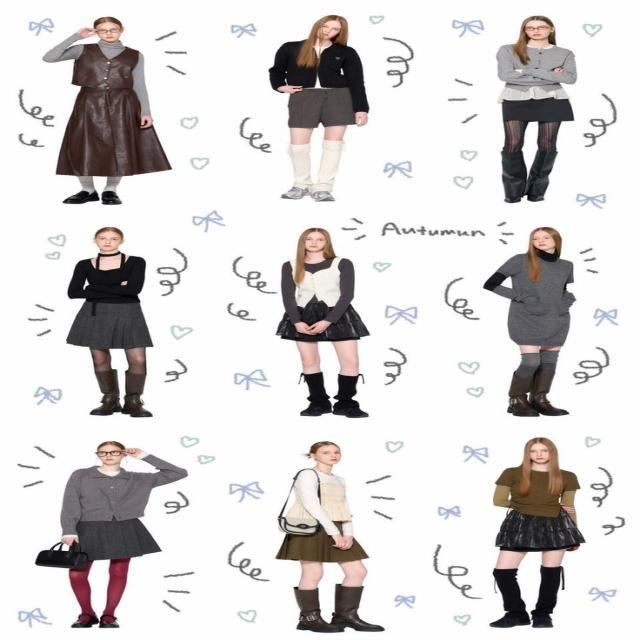person: (41, 17, 172, 205), (59, 441, 188, 628), (274, 441, 384, 633), (268, 15, 369, 202), (488, 436, 586, 628), (274, 227, 370, 418), (482, 226, 576, 416), (65, 226, 154, 417), (494, 15, 578, 203)
